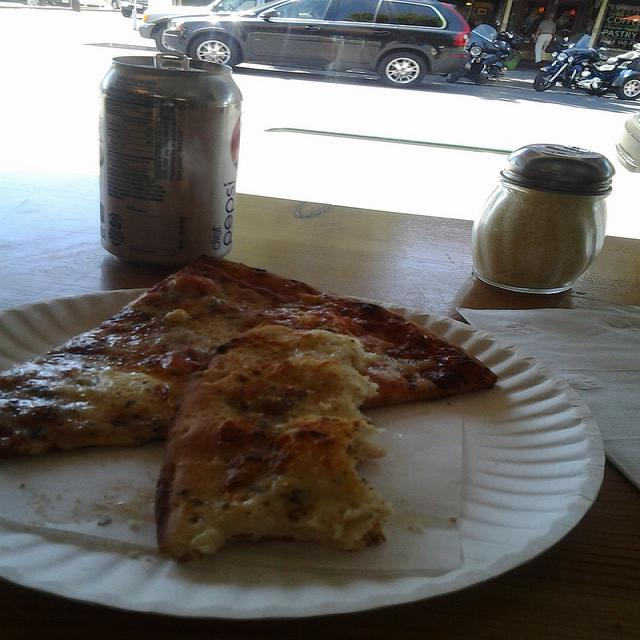motor: (533, 34, 640, 100), (446, 23, 530, 86)
